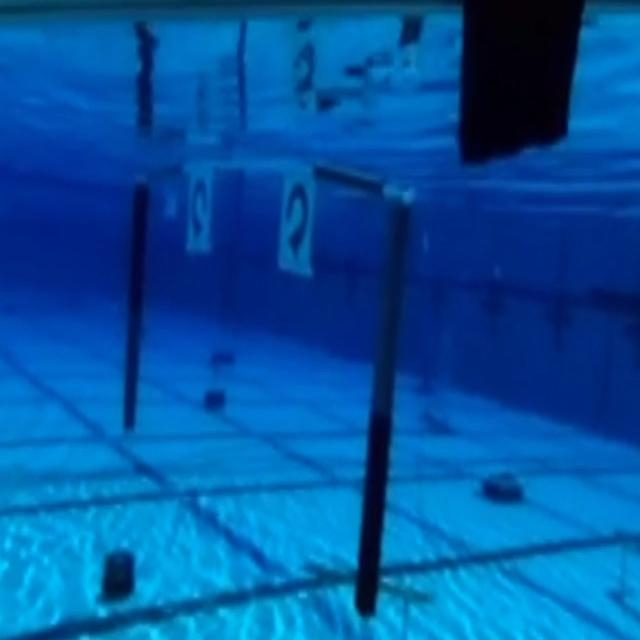Gate: (94, 126, 431, 603)
